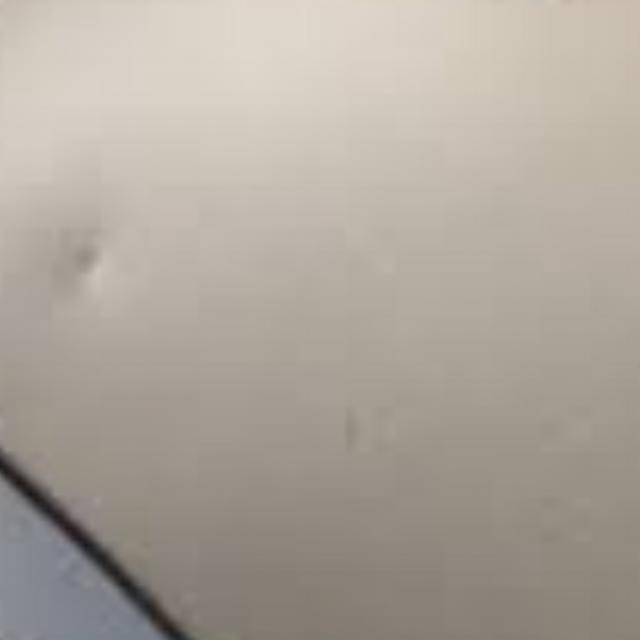dents: (38, 207, 168, 333)
